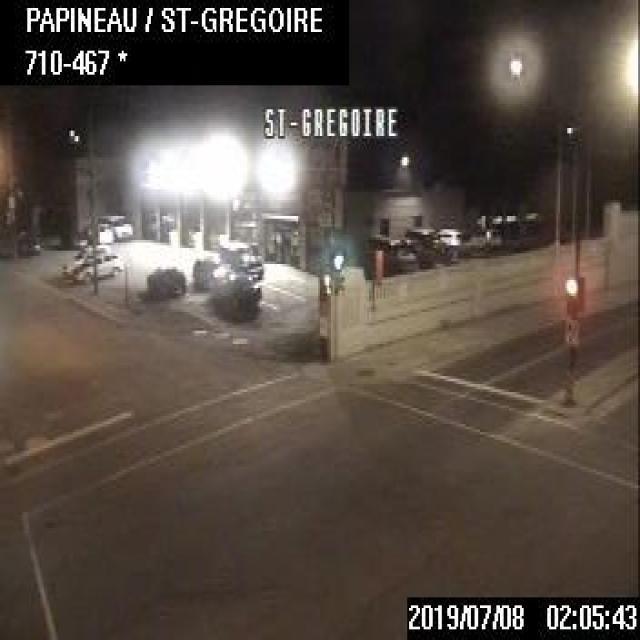vehicle: (217, 233, 266, 280), (367, 232, 419, 272), (210, 268, 260, 309), (73, 248, 123, 284), (192, 250, 228, 286), (403, 226, 435, 264), (97, 211, 135, 242), (145, 264, 184, 294), (433, 224, 462, 256)
